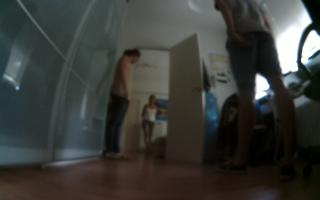person: (212, 1, 295, 182), (101, 44, 140, 162), (140, 93, 162, 163)
